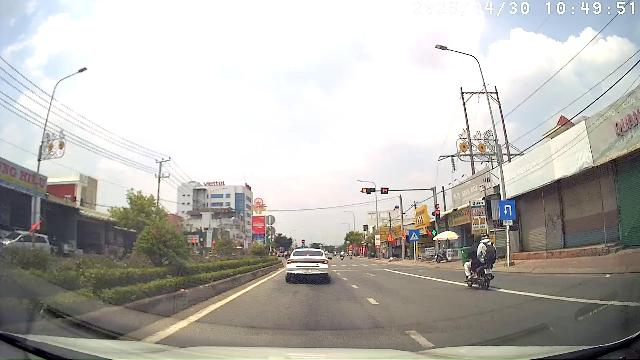423a-duong-nguoi-di-bo-sang-ngang-1: (409, 230, 419, 240)
